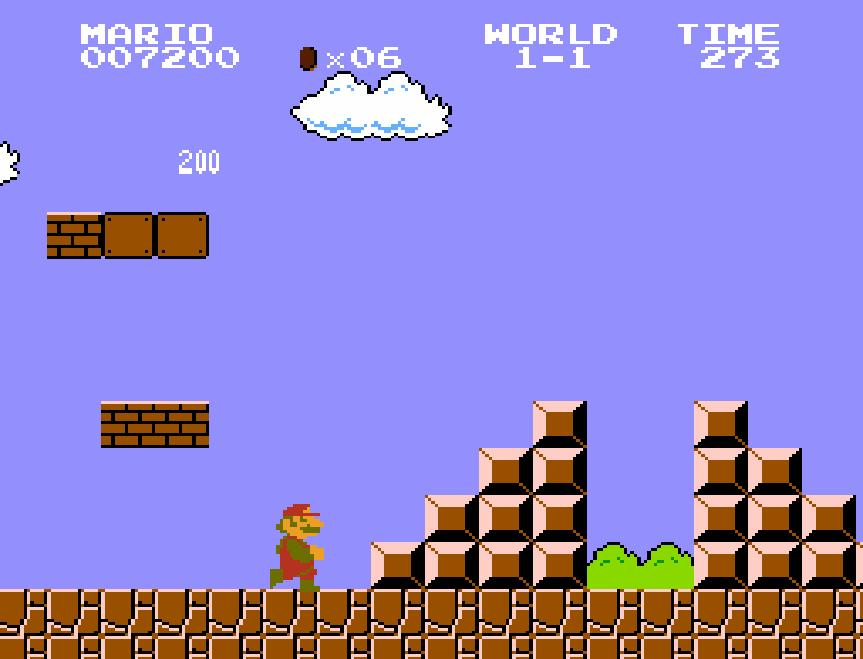big_mario: (267, 505, 325, 603)
